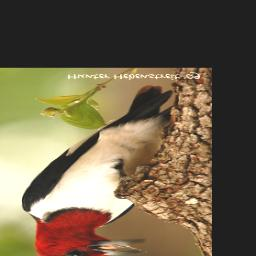Woodpecker: (20, 85, 173, 256)
